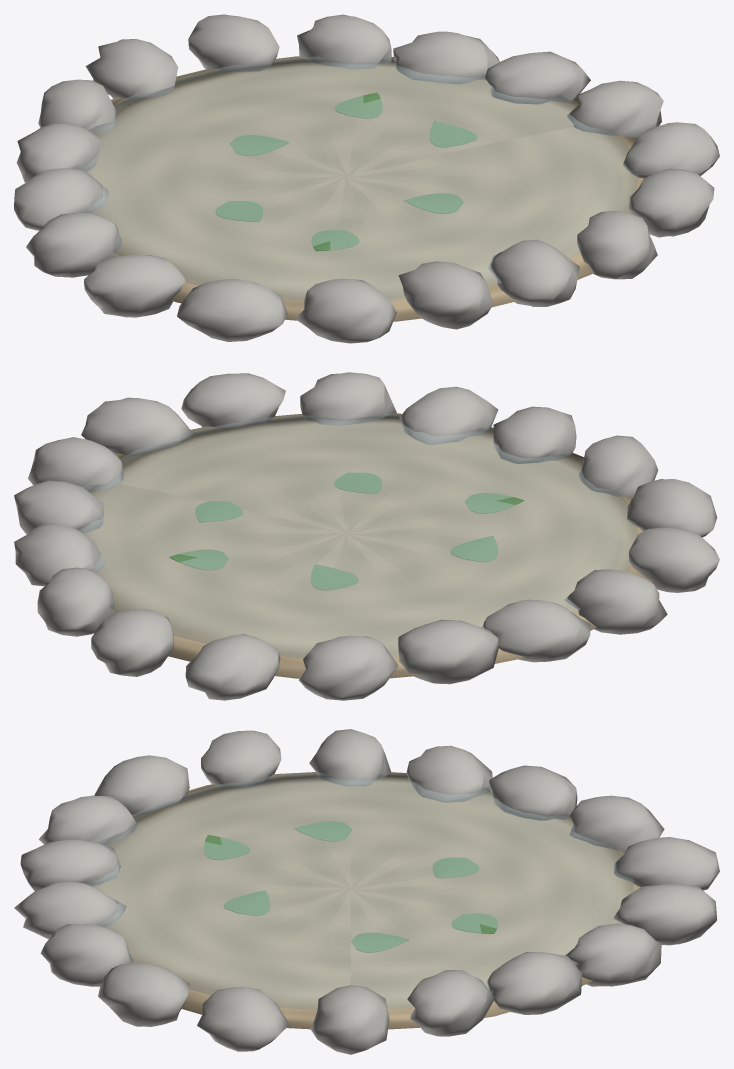
File: birds-and-reptiles-hd-shallow-pool-44bcd117__28120.glb
3 renders of one model, top to bottom at view 1: azimuth 30°, elevation 25°; view 2: azimuth 150°, elevation 25°; view 3: azimuth 270°, elevation 25°, orthographic. The views are drawn at different scales.
Parts seen in each view (by area): view 1: shallow-pool; view 2: shallow-pool; view 3: shallow-pool.
Part boxes in pixels (box(x1,y1,x2,y2)): shallow-pool: box(14, 14, 719, 343); shallow-pool: box(14, 372, 719, 700); shallow-pool: box(14, 729, 719, 1054).
Size of the model in its own units: 2.67 by 0.2198 by 2.68.
4 materials, 2 textured.
